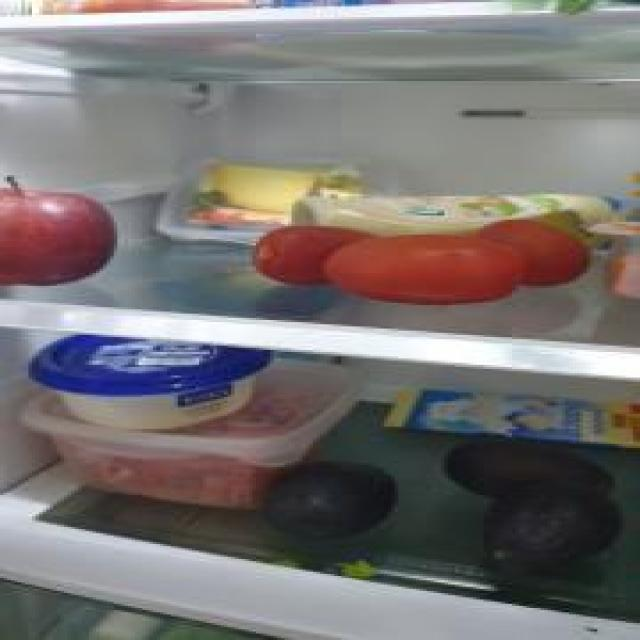apple: (0, 171, 117, 289)
avocado: (487, 484, 626, 576), (448, 433, 612, 504), (265, 464, 400, 541)
tomato: (332, 236, 521, 304), (252, 226, 398, 284), (478, 220, 592, 286)
